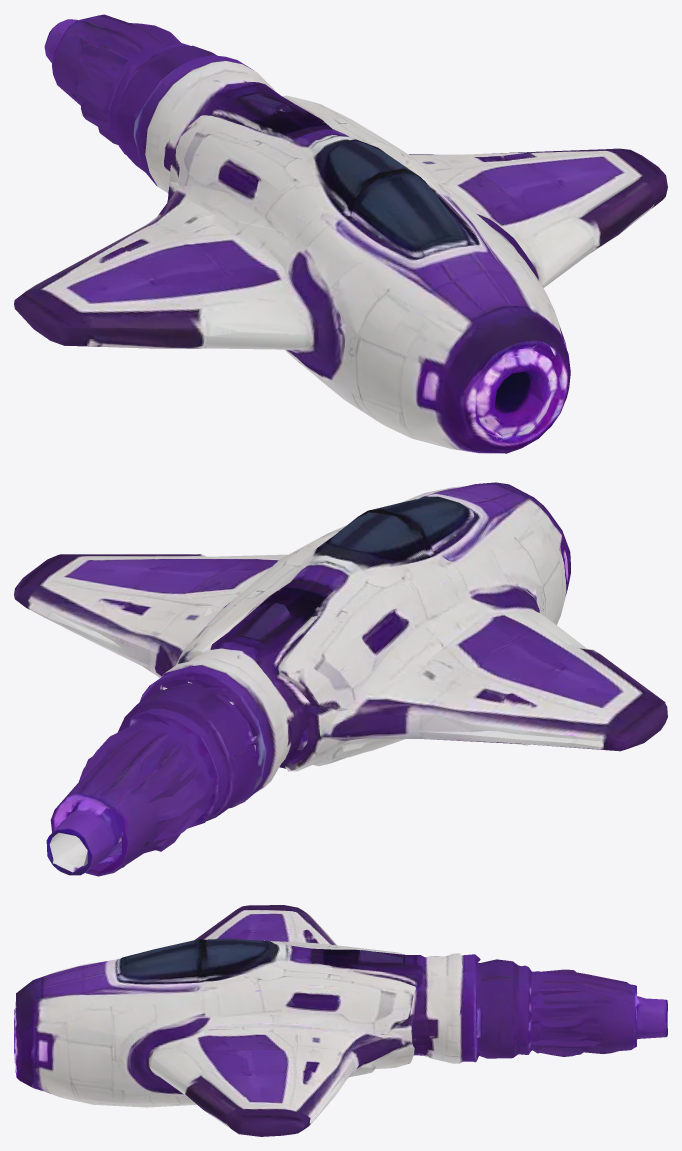
File: magnetar.glb
The picture shows the model from 3 angles, top to bottom: view 1: azimuth 30°, elevation 25°; view 2: azimuth 150°, elevation 25°; view 3: azimuth 270°, elevation 25°; orthographic projection. The views are drawn at different scales.
Parts seen in each view (by area): view 1: bacad0f3-c537-4808-b4fc-677b6579dc98_texturing.obj; view 2: bacad0f3-c537-4808-b4fc-677b6579dc98_texturing.obj; view 3: bacad0f3-c537-4808-b4fc-677b6579dc98_texturing.obj.
Boxes of the visible parts, x1,y1,x2,y2 form: bacad0f3-c537-4808-b4fc-677b6579dc98_texturing.obj: (14,14,667,453); bacad0f3-c537-4808-b4fc-677b6579dc98_texturing.obj: (14,482,667,876); bacad0f3-c537-4808-b4fc-677b6579dc98_texturing.obj: (14,905,667,1136).
Size of the model in its own units: 1.58 by 0.523 by 1.99.
1 material, 1 textured.
